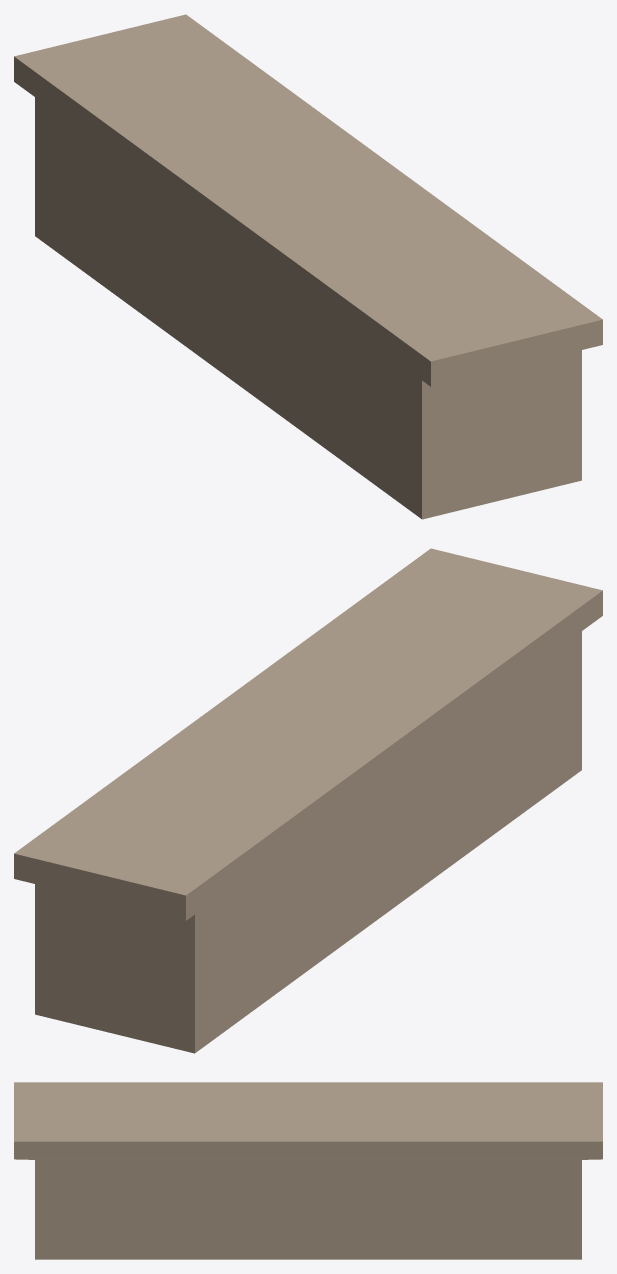
The model's file is toonbank.fbx.
3 views of the same model, one above another, from view 1: azimuth 30°, elevation 25°; view 2: azimuth 150°, elevation 25°; view 3: azimuth 270°, elevation 25° (orthographic). The views are drawn at different scales.
Visible parts, largest first — view 1: Cube; view 2: Cube; view 3: Cube.
Part boxes in pixels (box(x1,y1,x2,y2)): Cube: box(14, 14, 602, 519); Cube: box(14, 548, 602, 1053); Cube: box(14, 1082, 602, 1259).
Size of the model in its own units: 267 by 253 by 1121.
